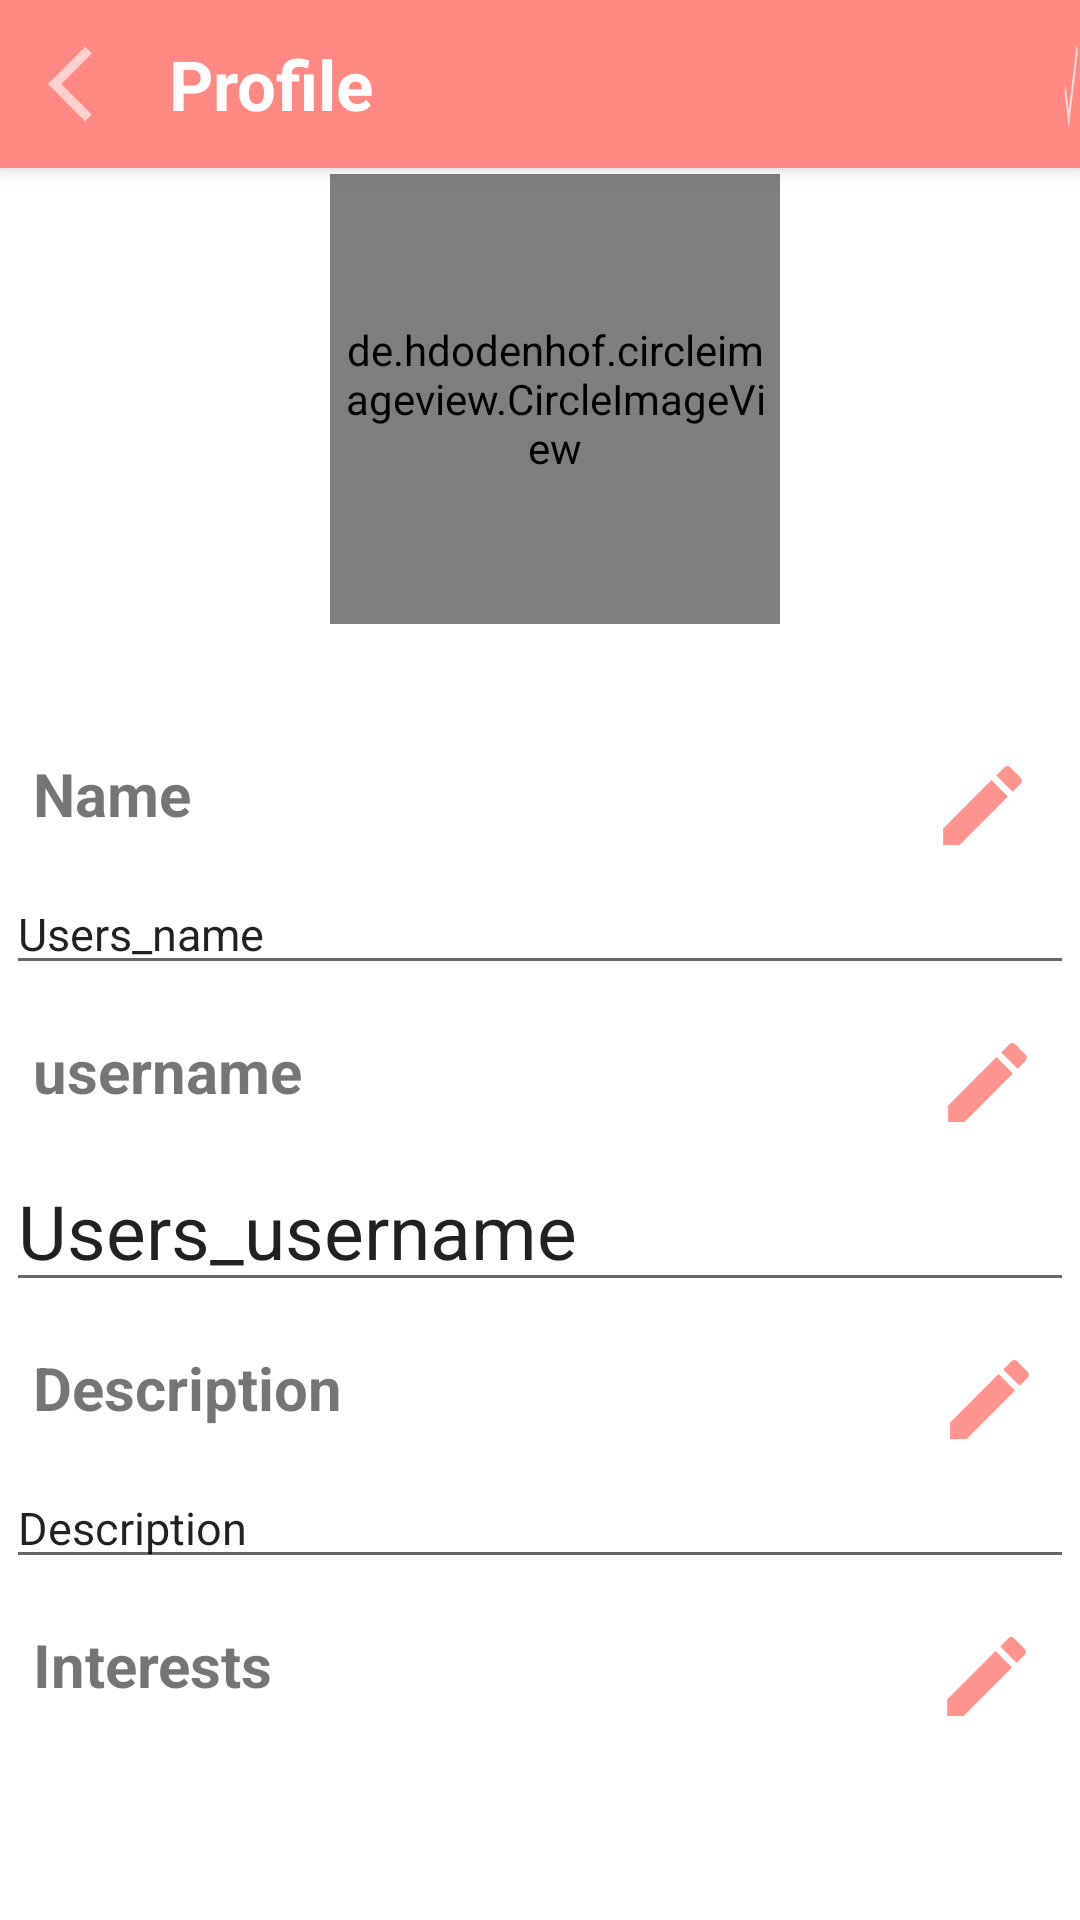

Screen size 1080 x 1920. Icon name, then its box in pixels as (x1, y1, x2, y2):
edit: (943, 766, 1022, 845), (948, 1043, 1027, 1122), (950, 1360, 1029, 1439), (947, 1637, 1026, 1716)
left back: (48, 47, 92, 121)
